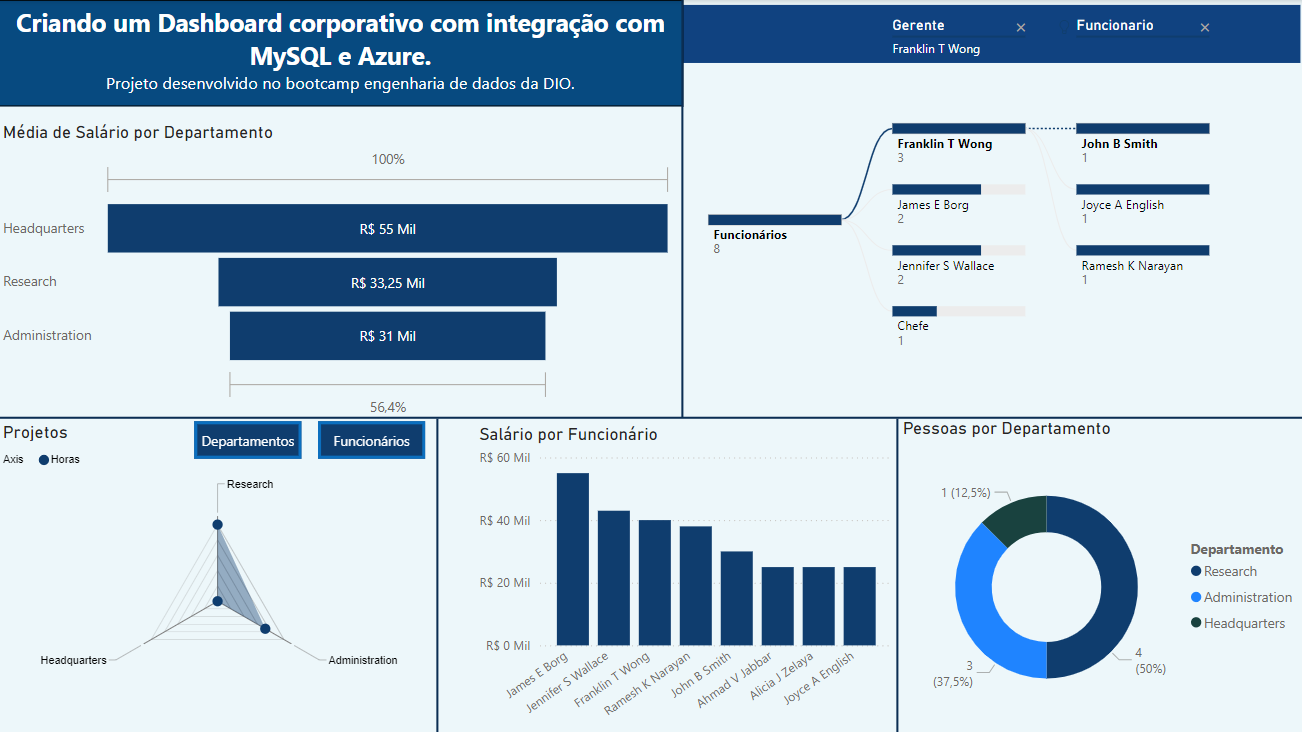

This screenshot's page, from the dashboard's own definition file:
{"tool":"powerbi","page":{"name":"Página 1","canvas":[1280,720],"ordinal":0},"visuals":[{"type":"donutChart","title":"Pessoas por Departamento","fields":{"Category":["DP_funcionarios.Departamento"],"Y":["CountNonNull(DP_funcionarios.Nome)"]},"box":[880.4,408.4,399.9,313],"z":0},{"type":"lineClusteredColumnComboChart","title":"Salário por Funcionário","fields":{"Category":["DP_funcionarios.Nome"],"Y":["Sum(DP_funcionarios.Salary)"]},"box":[466.1,414.7,414.7,305],"z":1000},{"type":"decompositionTreeVisual","fields":{"ExplainBy":["Employee_gerente.Gerente","Employee_gerente.Funcionario"],"Analyze":["CountNonNull(Employee_gerente.Funcionario)"]},"box":[665.2,0,615.1,408.4],"z":2000},{"type":"funnel","title":"Média de Salário por Departamento","fields":{"Category":["DP_funcionarios.Departamento"],"Y":["Avg(DP_funcionarios.Salary)"]},"box":[0,118.6,665.2,295.9],"z":3000},{"type":"RadarChart1446119667547","title":"Projetos","fields":{"Y":["Sum(azure_company works_on (2).Hours)"],"Category":["azure_company works_on (2).azure_company departament.Dname"]},"box":[0,411.7,430,306.7],"z":4000},{"type":"textbox","box":[0,0,670.1,103.9],"z":5500},{"type":"shape","box":[0,398.5,1280,20.1],"z":6000},{"type":"shape","box":[393.8,409.6,72.1,310.6],"z":7000},{"type":"shape","box":[843.8,409.6,72.1,310.6],"z":8000},{"type":"shape","box":[633.4,0,72.1,408.4],"z":9000},{"type":"actionButton","box":[191.7,411.7,105,36.7],"z":10000},{"type":"actionButton","box":[313.3,411.7,105,36.7],"z":11000}]}

Visuals, with their boxes in screenshot pixels (x1, y1, x2, y2), scaled from the page's 1280x720 canvas onto the 1302x732 screenshot:
"Pessoas por Departamento" donutChart: <box>896,415,1301,731</box>
"Salário por Funcionário" lineClusteredColumnComboChart: <box>474,422,896,731</box>
decompositionTreeVisual - Employee_gerente.Gerente x Employee_gerente.Funcionario: <box>677,0,1301,415</box>
"Média de Salário por Departamento" funnel: <box>0,121,677,421</box>
"Projetos" RadarChart1446119667547: <box>0,419,437,730</box>
textbox: <box>0,0,682,106</box>
shape: <box>0,405,1301,426</box>
shape: <box>401,416,474,731</box>
shape: <box>858,416,932,731</box>
shape: <box>644,0,718,415</box>
actionButton: <box>195,419,302,456</box>
actionButton: <box>319,419,425,456</box>
